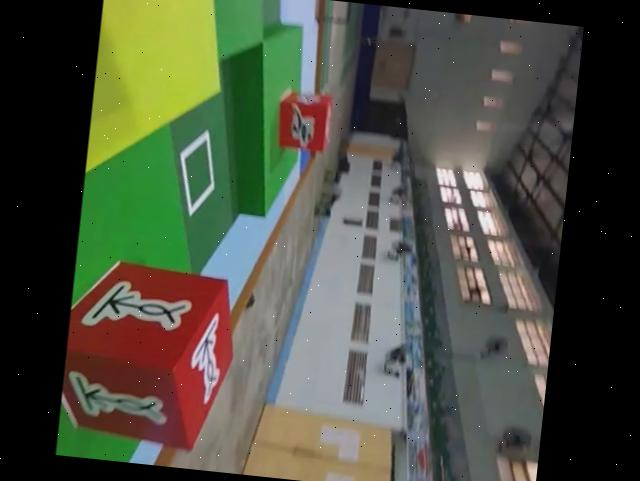R1: (270, 87, 336, 152)
R2 Real: (58, 250, 250, 455)
